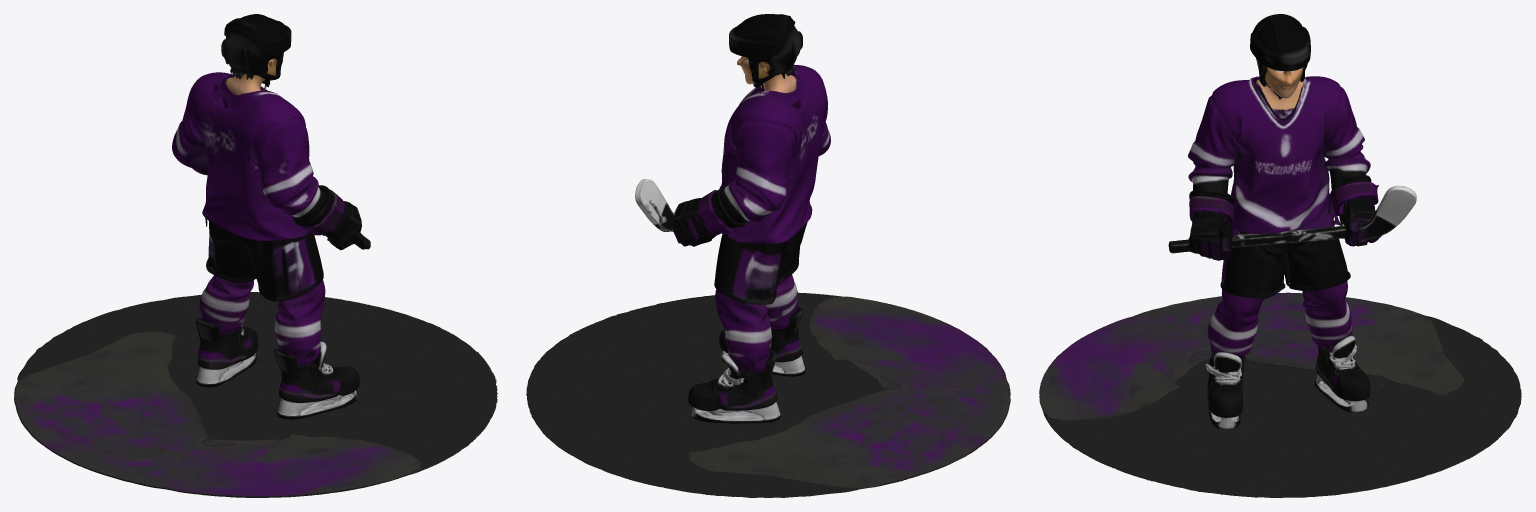
Rendered from puck-it-player 2.glb.
The picture shows the model from 3 angles, left to right: view 1: azimuth 30°, elevation 25°; view 2: azimuth 150°, elevation 25°; view 3: azimuth 270°, elevation 25°; orthographic projection.
Parts seen in each view (by area): view 1: world; view 2: world; view 3: world.
Part boxes in pixels (left/top/right/bottom): world: left=14, top=14, right=497, bottom=497; world: left=526, top=14, right=1010, bottom=497; world: left=1039, top=14, right=1521, bottom=497.
Bounding box in the file's own units: 1 × 0.8579 × 1.
Materials: 1 (1 with a texture image).
